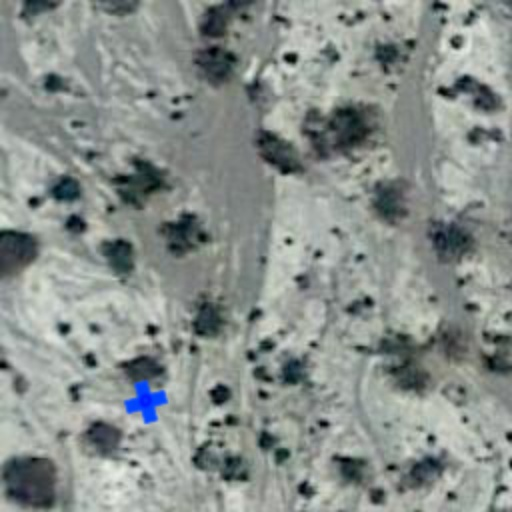cross: (118, 374, 174, 430)
